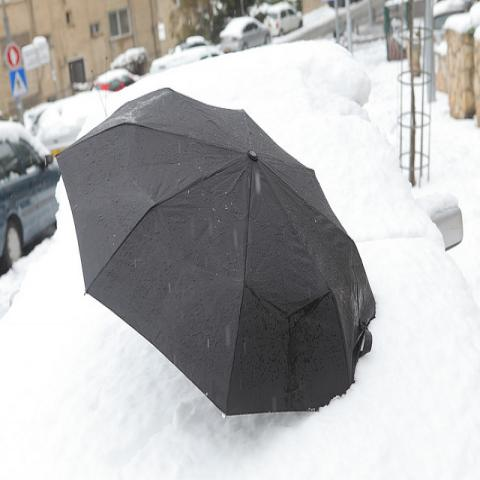car: (0, 129, 62, 275), (32, 91, 120, 147), (150, 46, 225, 74), (219, 15, 272, 52), (88, 67, 141, 93), (264, 1, 302, 37), (110, 47, 150, 73), (175, 34, 215, 54)
